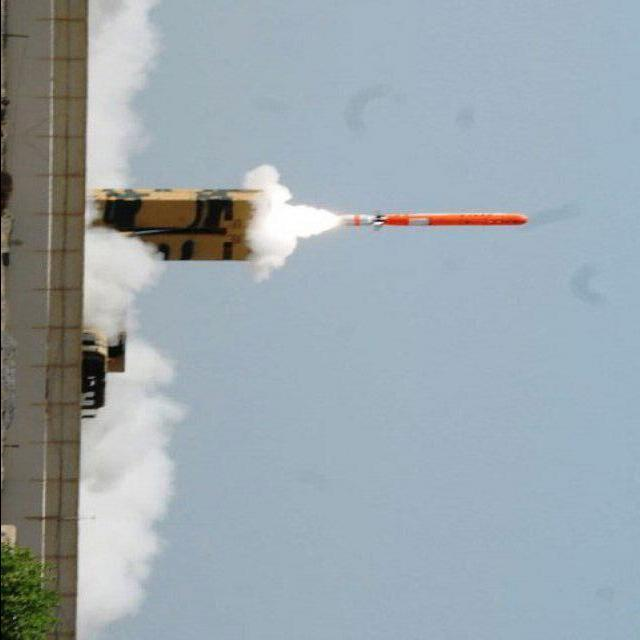Missile: (357, 207, 543, 234)
